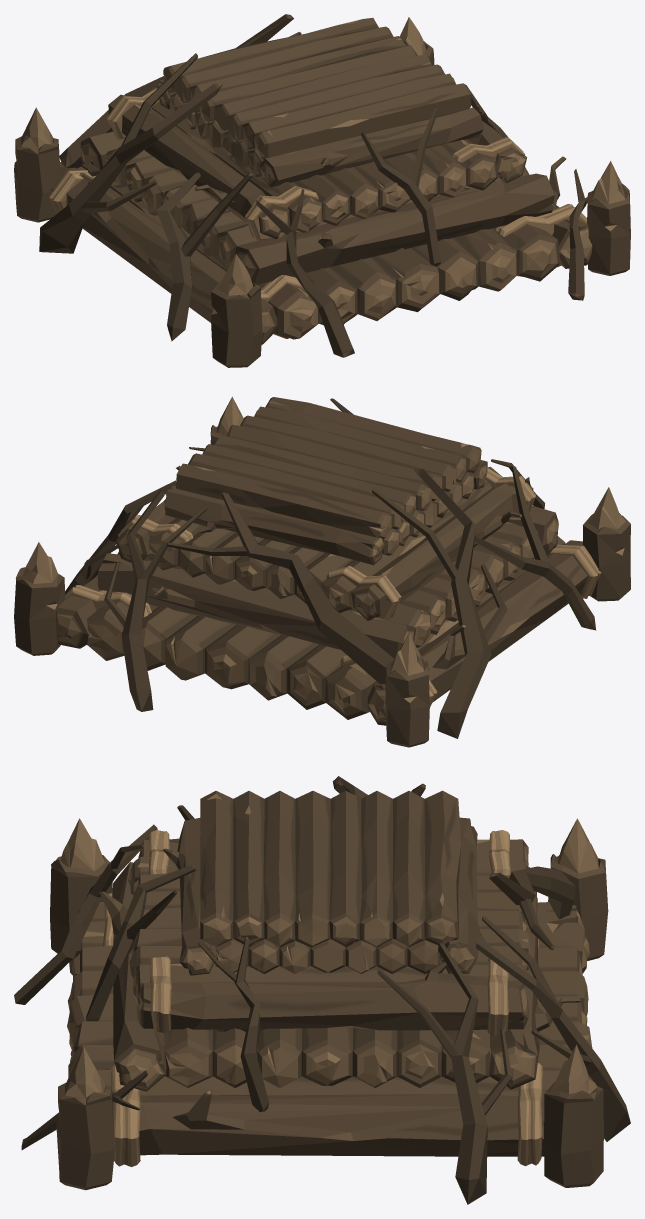
Rendered from crypt_pyre.gltf.
3 views of the same model, one above another, from view 1: azimuth 30°, elevation 25°; view 2: azimuth 150°, elevation 25°; view 3: azimuth 270°, elevation 25° (orthographic). The views are drawn at different scales.
Parts seen in each view (by area): view 1: crypt_pyre; view 2: crypt_pyre; view 3: crypt_pyre.
Boxes of the visible parts, x1,y1,x2,y2 form: crypt_pyre: (14,14,630,367); crypt_pyre: (14,396,630,747); crypt_pyre: (14,776,630,1204).
Size of the model in its own units: 5.76 by 2.7 by 5.83.
1 material, 1 textured.
